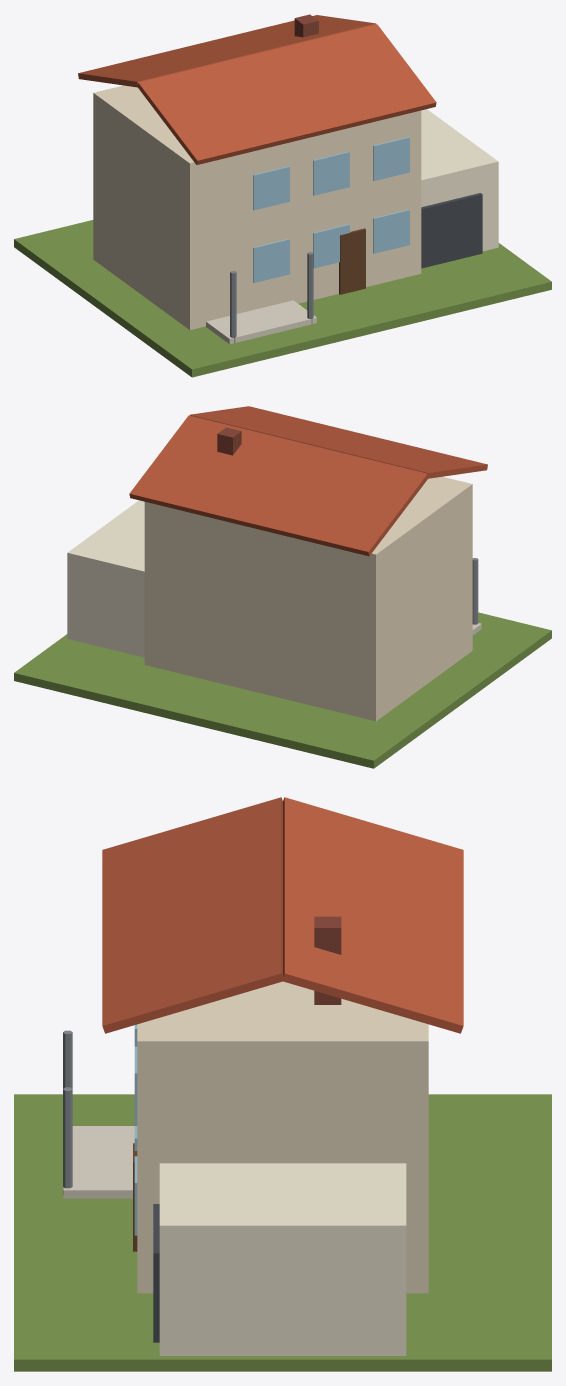
Rendered from building.house-suburban.glb.
3 renders of one model, top to bottom at view 1: azimuth 30°, elevation 25°; view 2: azimuth 150°, elevation 25°; view 3: azimuth 270°, elevation 25°, orthographic. The views are drawn at different scales.
Parts seen in each view (by area): view 1: building.house-suburban; view 2: building.house-suburban; view 3: building.house-suburban.
Part boxes in pixels (box(x1,y1,x2,y2)): building.house-suburban: box(14, 14, 551, 377); building.house-suburban: box(14, 406, 551, 768); building.house-suburban: box(14, 797, 551, 1371).
Size of the model in its own units: 14 by 8.5 by 12.
